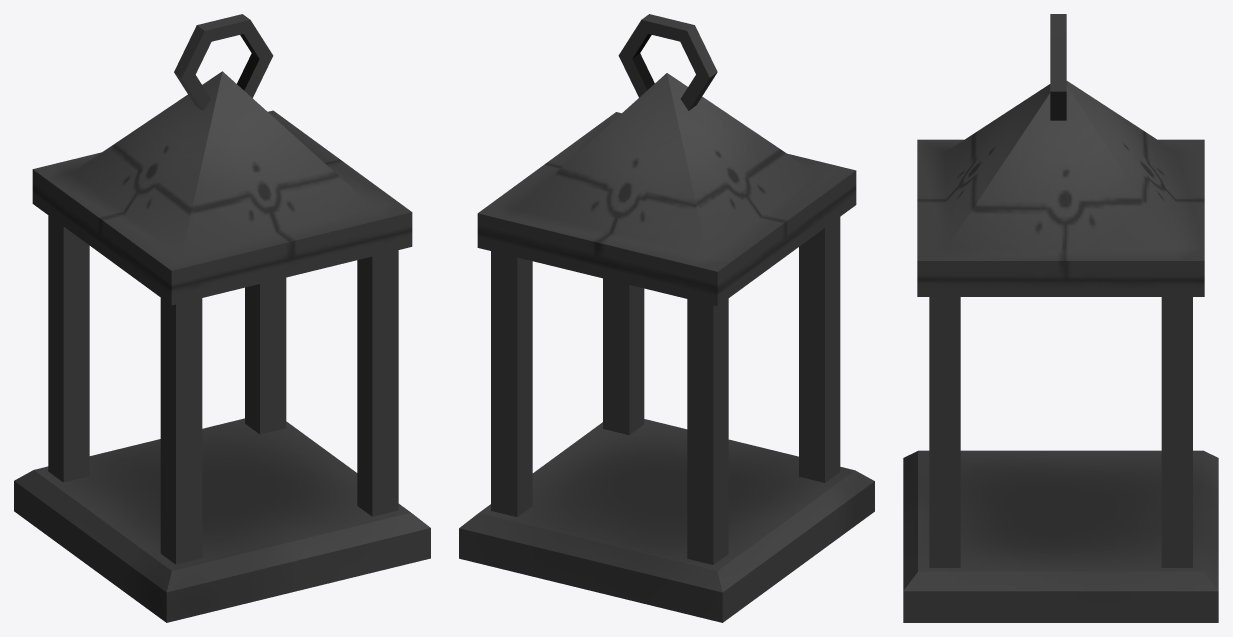
Rendered from lantern_mesh.fbx.
3 views of the same model, side by side, from view 1: azimuth 30°, elevation 25°; view 2: azimuth 150°, elevation 25°; view 3: azimuth 270°, elevation 25° (orthographic). The views are drawn at different scales.
Visible parts, largest first — view 1: lantern; view 2: lantern; view 3: lantern.
Boxes of the visible parts, x1,y1,x2,y2 form: lantern: (14, 14, 430, 622); lantern: (459, 14, 874, 622); lantern: (903, 14, 1218, 622).
Bounding box in the file's own units: 15.3 × 28.39 × 15.3.
